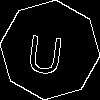U: (25, 25, 67, 76)
